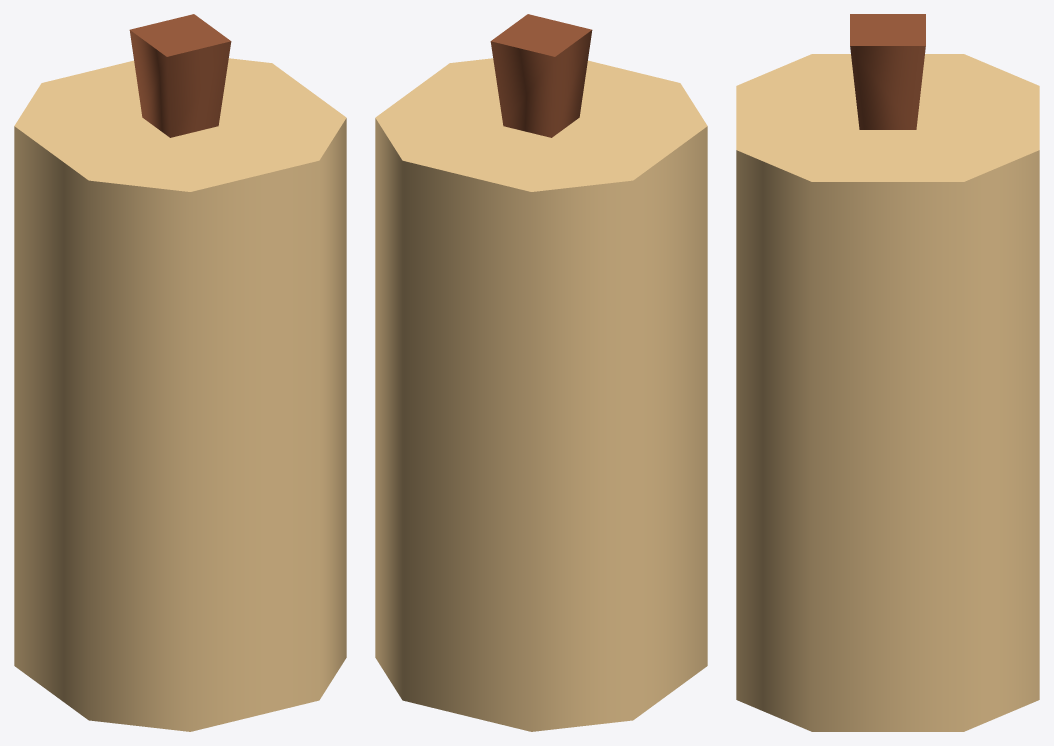
The model's file is candle.fbx.
3 renders of one model, left to right at view 1: azimuth 30°, elevation 25°; view 2: azimuth 150°, elevation 25°; view 3: azimuth 270°, elevation 25°, orthographic.
Parts seen in each view (by area): view 1: candle; view 2: candle; view 3: candle.
Boxes of the visible parts, left/top/right/bottom form: candle: left=14, top=14, right=346, bottom=731; candle: left=375, top=14, right=707, bottom=731; candle: left=736, top=14, right=1039, bottom=731.
Bounding box in the file's own units: 0.5 × 1.16 × 0.5.
